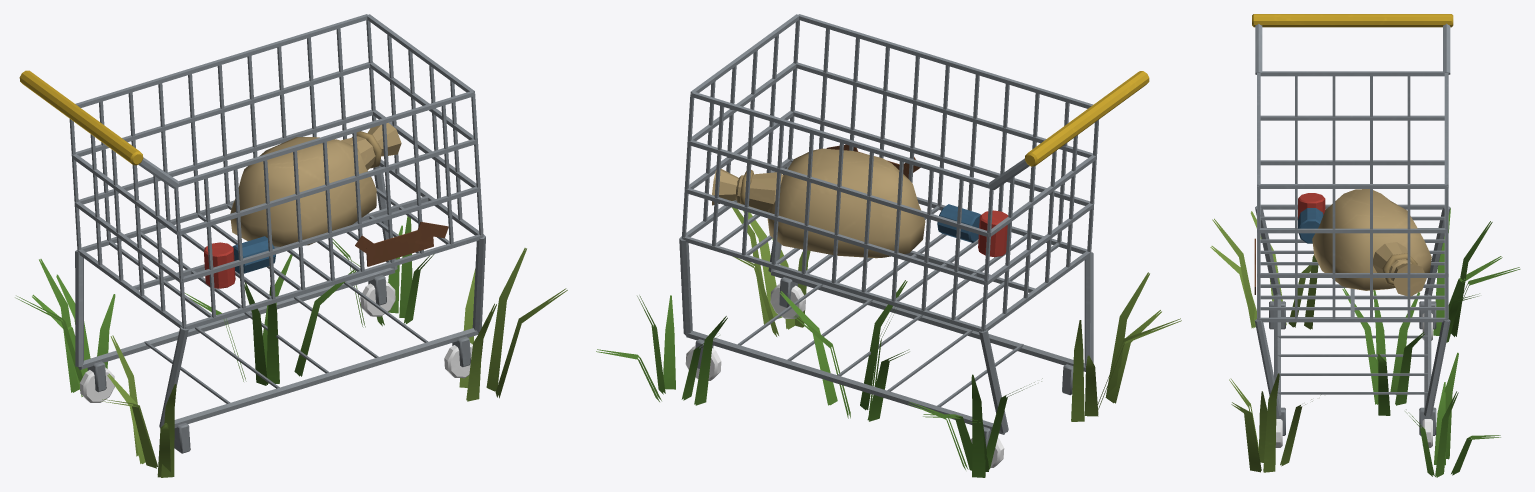
Rendered from abandoned_shopping_cart.glb.
3 renders of one model, left to right at view 1: azimuth 30°, elevation 25°; view 2: azimuth 150°, elevation 25°; view 3: azimuth 270°, elevation 25°, orthographic. The views are drawn at different scales.
Visible parts, largest first — view 1: abandoned_shopping_cart; view 2: abandoned_shopping_cart; view 3: abandoned_shopping_cart.
Part boxes in pixels (<box>): abandoned_shopping_cart: <box>15,14,567,477</box>; abandoned_shopping_cart: <box>596,14,1181,477</box>; abandoned_shopping_cart: <box>1210,14,1520,477</box>.
Size of the model in its own units: 1.38 by 0.9708 by 0.9082.
Materials: 11 (11 with a texture image).
